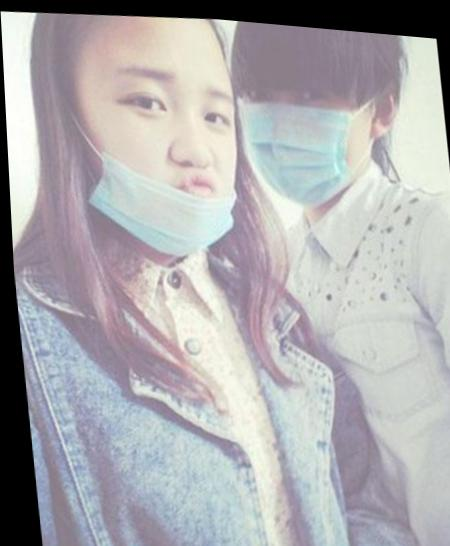OK: (223, 53, 367, 202)
WRONG: (56, 43, 249, 249)
